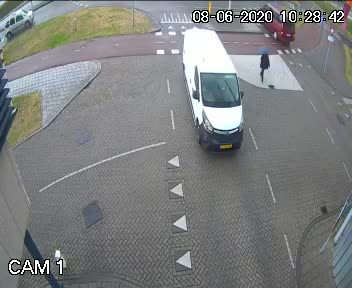car: (174, 24, 247, 159), (254, 0, 296, 55), (0, 10, 39, 35)
